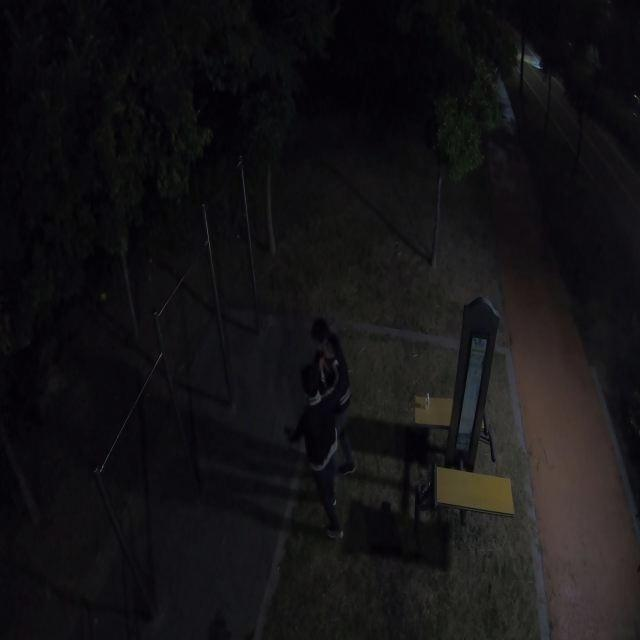fight: (287, 317, 356, 539)
